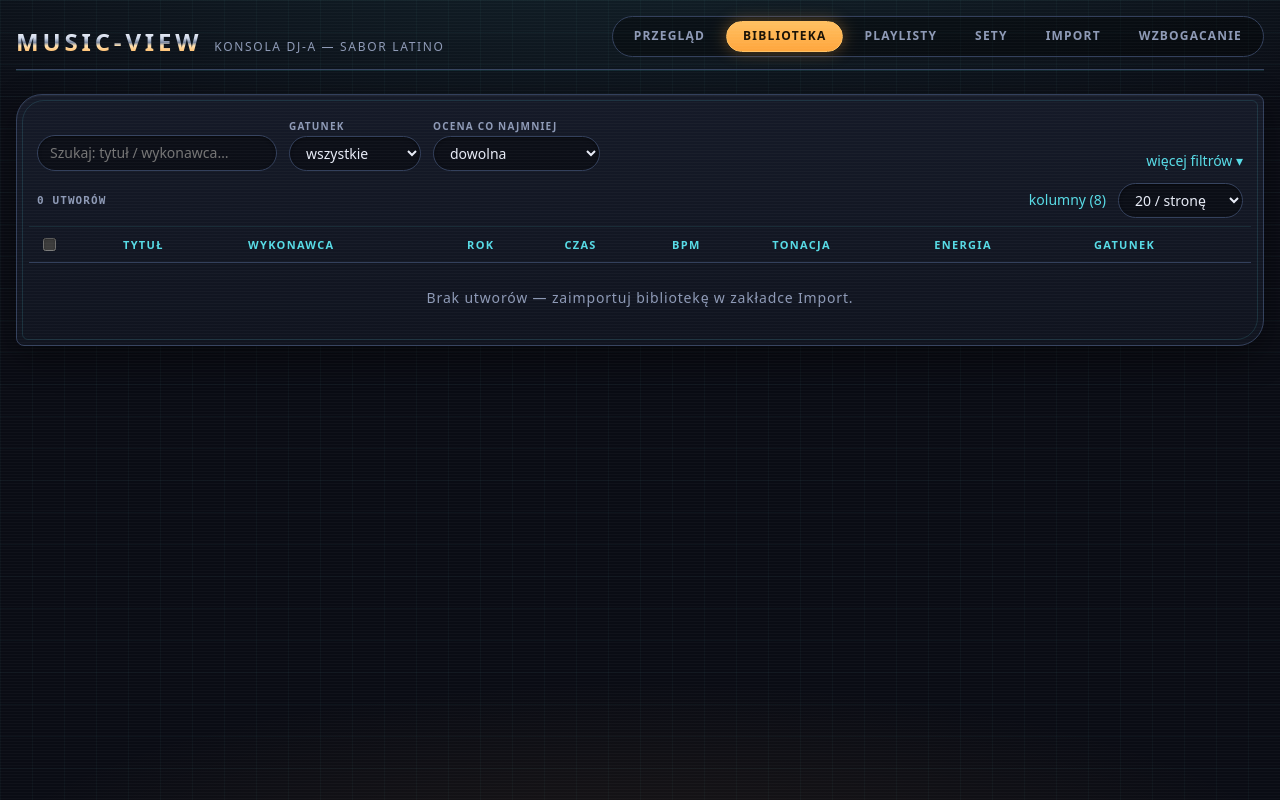
App › przełącza widok zakładką i zapisuje go w adresie
Expected: the element named "Biblioteka" is shown, [16,94,1264,346]
Step 1. Click the button with test id "tab-sets" → click(991, 36), box [958,21,1025,52]
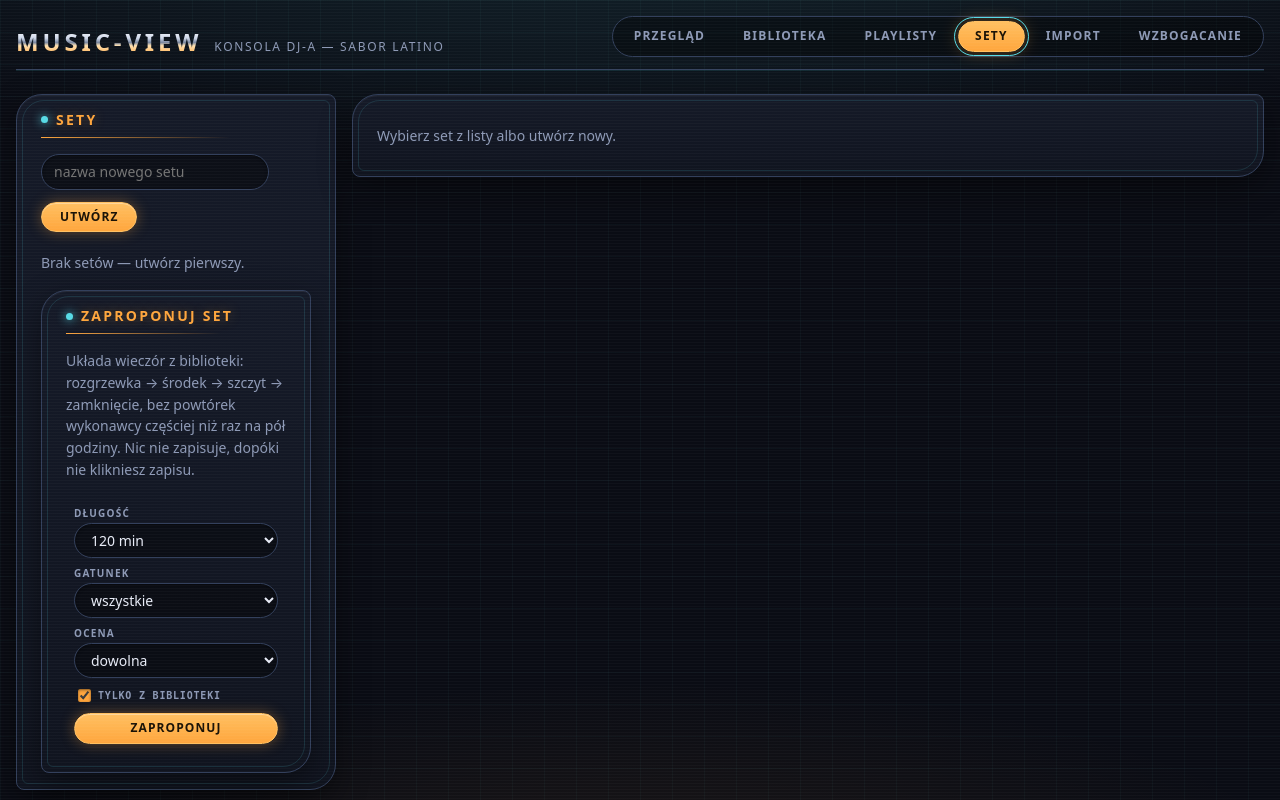
Now the element "Sety" is shown, box [16,94,336,790]
